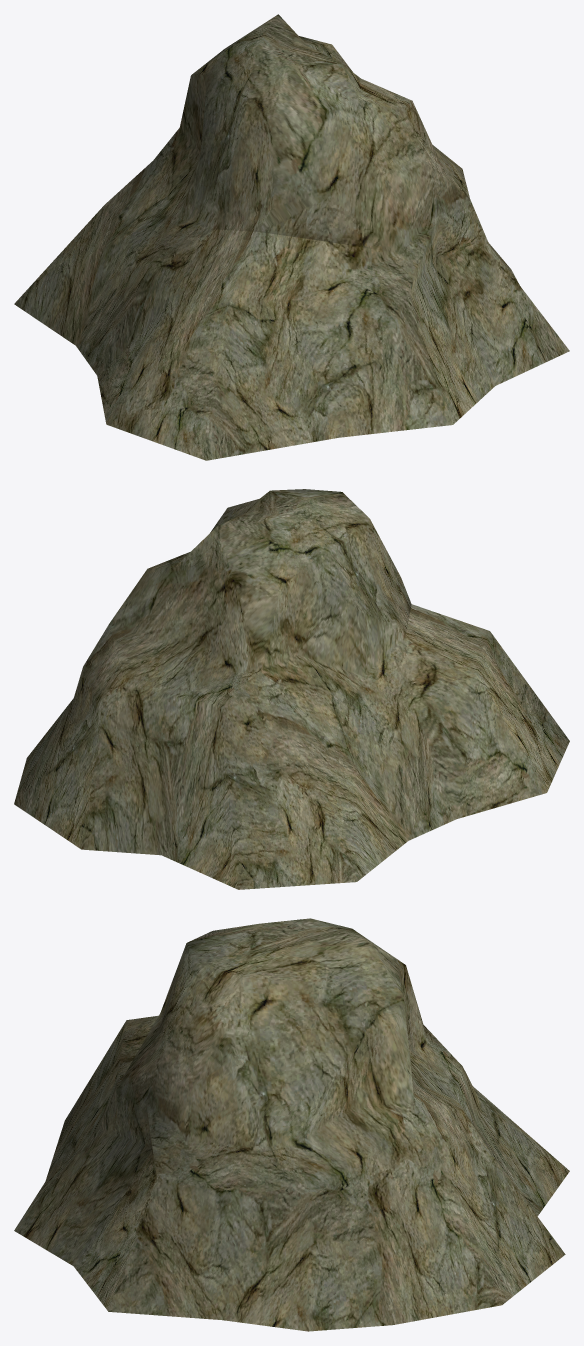
Rendered from rock_plain_white_l0.fbx.
The picture shows the model from 3 angles, top to bottom: view 1: azimuth 30°, elevation 25°; view 2: azimuth 150°, elevation 25°; view 3: azimuth 270°, elevation 25°; orthographic projection. The views are drawn at different scales.
Parts seen in each view (by area): view 1: mesh_node; view 2: mesh_node; view 3: mesh_node.
Part boxes in pixels (<box>): mesh_node: <box>14,14,569,460</box>; mesh_node: <box>14,489,569,889</box>; mesh_node: <box>14,918,569,1331</box>.
Size of the model in its own units: 5.56 by 3.24 by 5.69.
